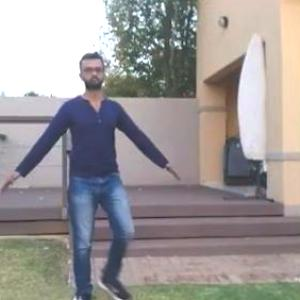land: (17, 74, 161, 292)
